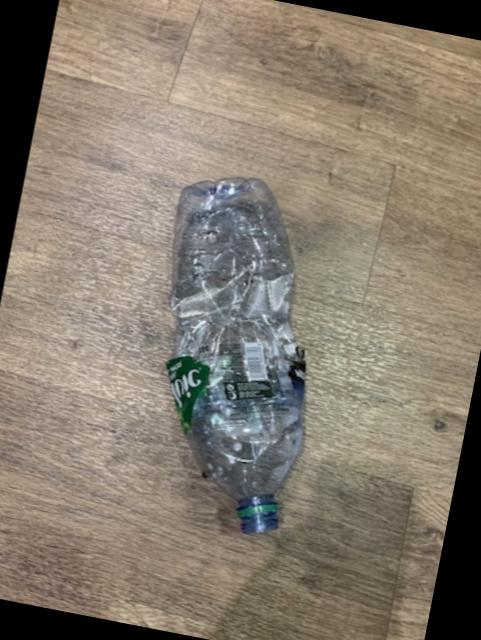plastic: (168, 176, 306, 532)
